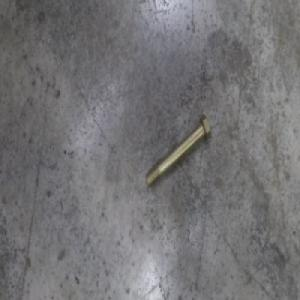Bolt: (145, 114, 211, 188)
